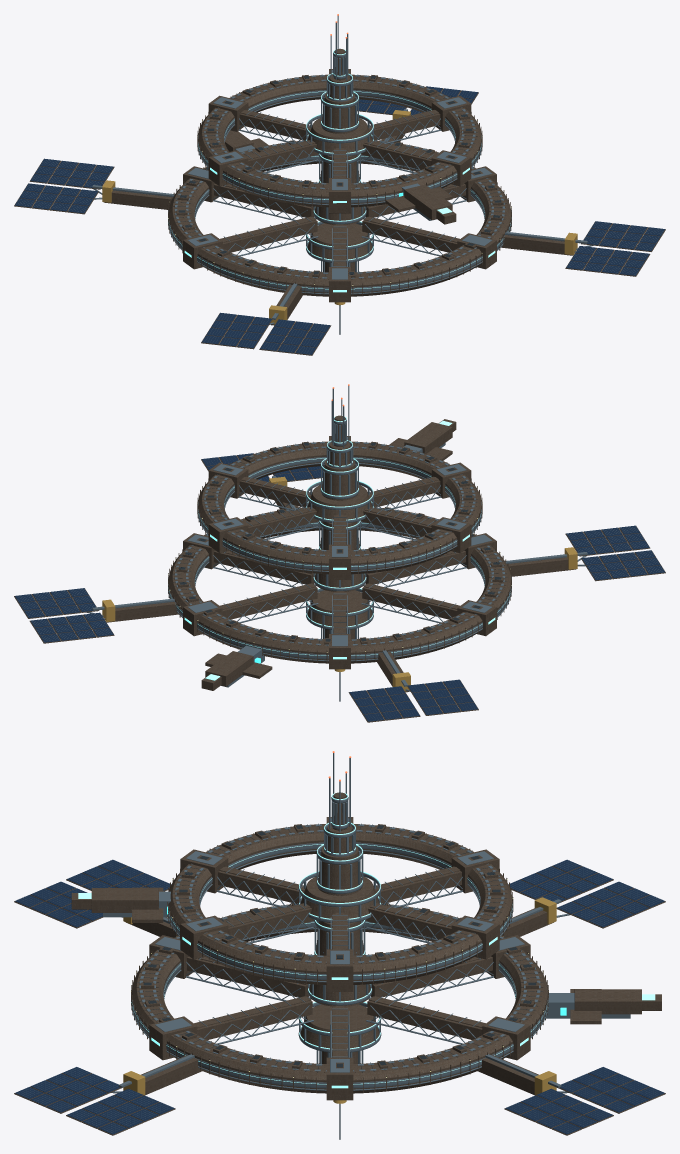
Rendered from station.glb.
3 renders of one model, top to bottom at view 1: azimuth 30°, elevation 25°; view 2: azimuth 150°, elevation 25°; view 3: azimuth 270°, elevation 25°, orthographic. The views are drawn at different scales.
Parts seen in each view (by area): view 1: Station_Hull, Station_Gold, Station_Ivory, Station_Window; view 2: Station_Hull, Station_Gold, Station_Ivory, Station_Window; view 3: Station_Gold, Station_Hull, Station_Ivory, Station_Window.
Part boxes in pixels (x1,y1,x2,y2): Station_Hull: (104,48,572,325); Station_Gold: (14,15,665,354); Station_Ivory: (14,75,665,355); Station_Window: (170,49,510,292); Station_Hull: (107,415,576,692); Station_Gold: (15,385,665,721); Station_Ivory: (14,422,665,722); Station_Window: (169,416,510,680); Station_Gold: (15,753,664,1139); Station_Hull: (71,792,661,1100); Station_Ivory: (14,824,665,1135); Station_Window: (78,792,655,1088).
Size of the model in its own units: 146 by 94.85 by 146.
Materials: 7 (7 with a texture image).
